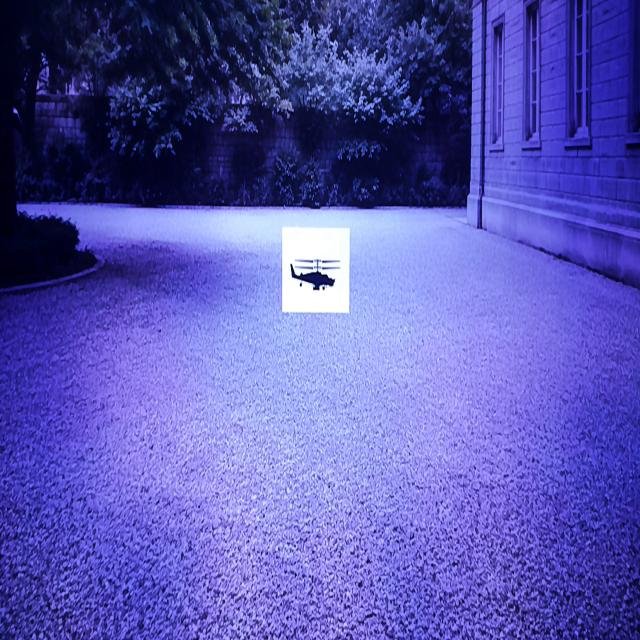Ka-52 Enemy: (290, 260, 339, 290)
